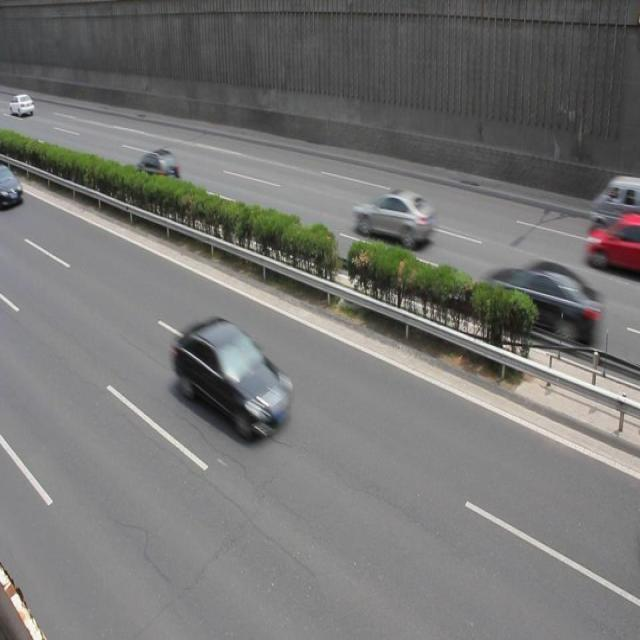car: (172, 317, 295, 440), (478, 258, 604, 354), (352, 187, 434, 250), (582, 217, 629, 275), (132, 148, 179, 195), (0, 164, 22, 208)
truck: (587, 172, 640, 239)
